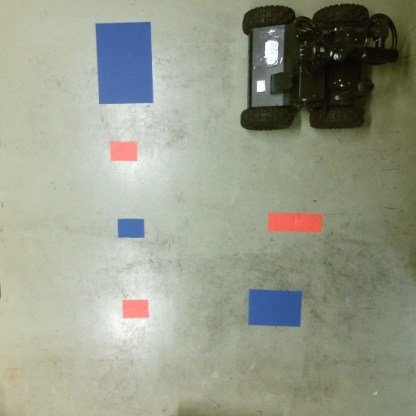Blue: (95, 22, 155, 105), (246, 288, 303, 328), (115, 217, 146, 238)
Jaguar: (240, 4, 401, 133)
Red: (266, 212, 325, 235), (107, 141, 140, 161), (122, 299, 150, 318)
